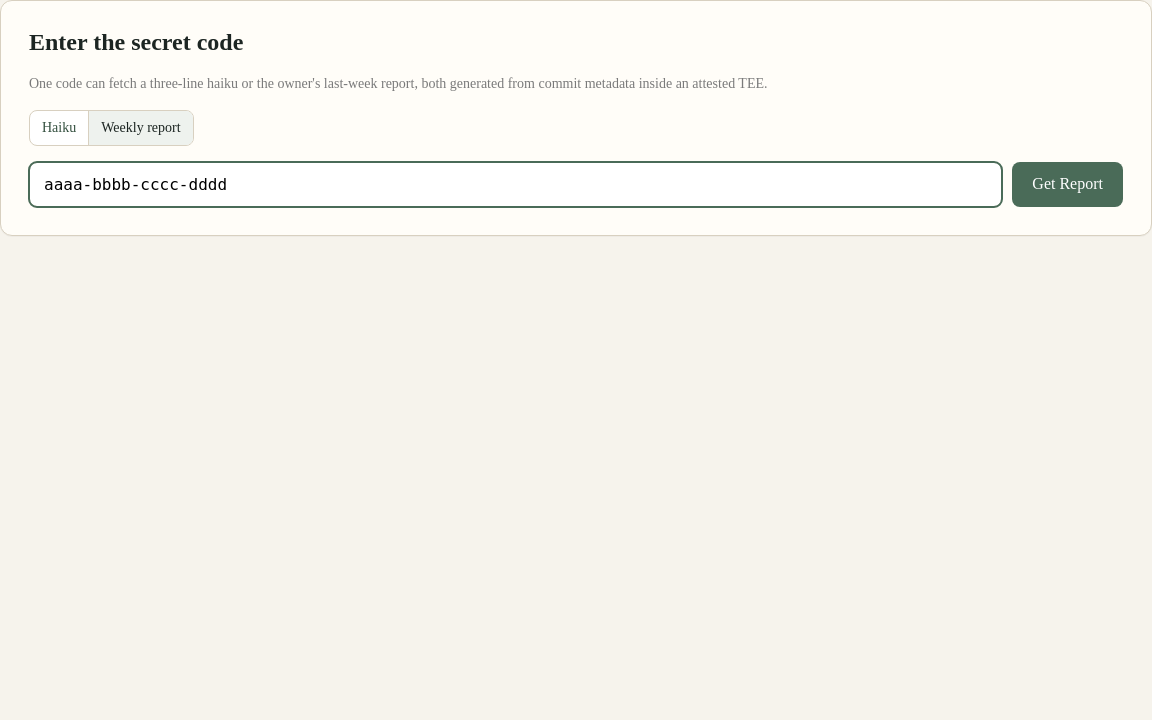
Scenario: Requester › renders a weekly report with the same code
The width and height of the screenshot is (1152, 720).
Click the button "Get Report" at coordinates (1068, 184), box [1012,162,1123,207]
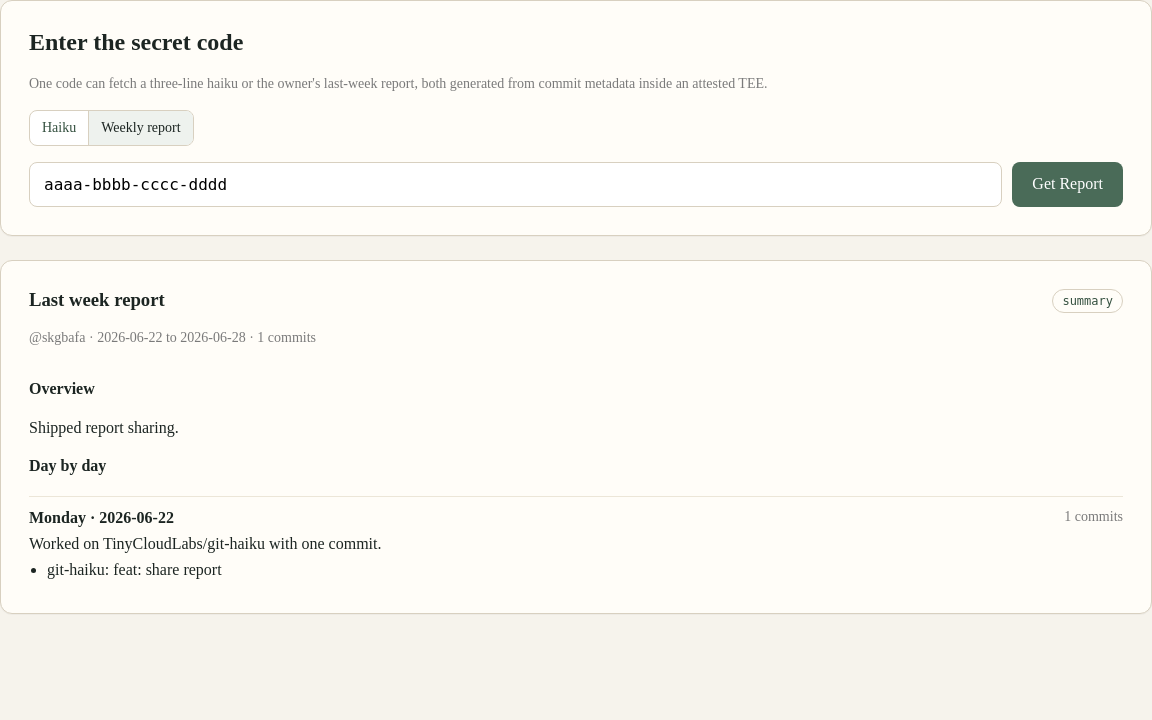
Check: the heading "Last week report" is shown, box [29,289,165,310]
Check: the text "Shipped report sharing." is shown, box [29,419,179,436]
Check: the list item "git-haiku: feat: share report" is shown, box [47,561,222,578]
